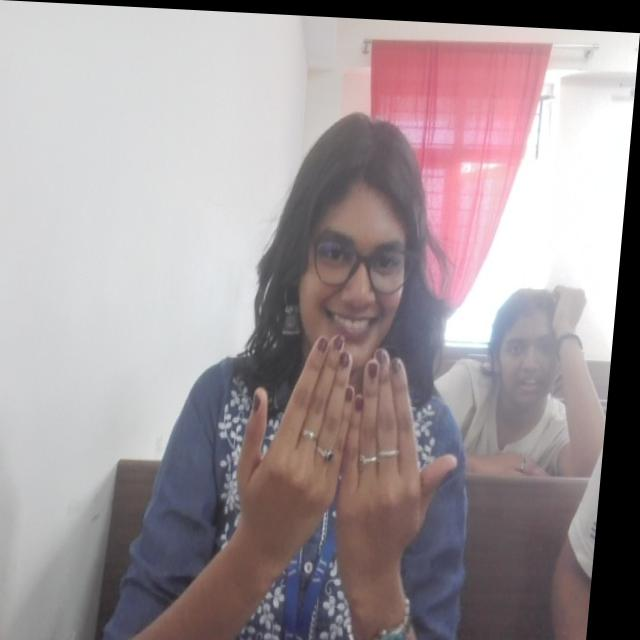thankyou: (240, 326, 475, 579)
